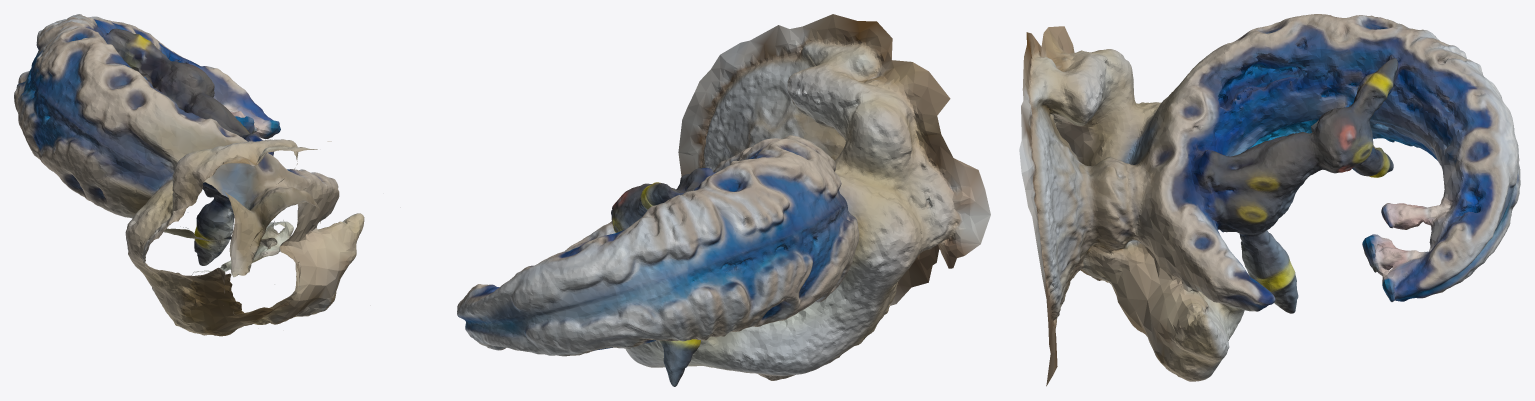
Rendered from Tamao.glb.
3 renders of one model, left to right at view 1: azimuth 30°, elevation 25°; view 2: azimuth 150°, elevation 25°; view 3: azimuth 270°, elevation 25°, orthographic. The views are drawn at different scales.
Size of the model in its own units: 2.43 by 2.19 by 3.28.
